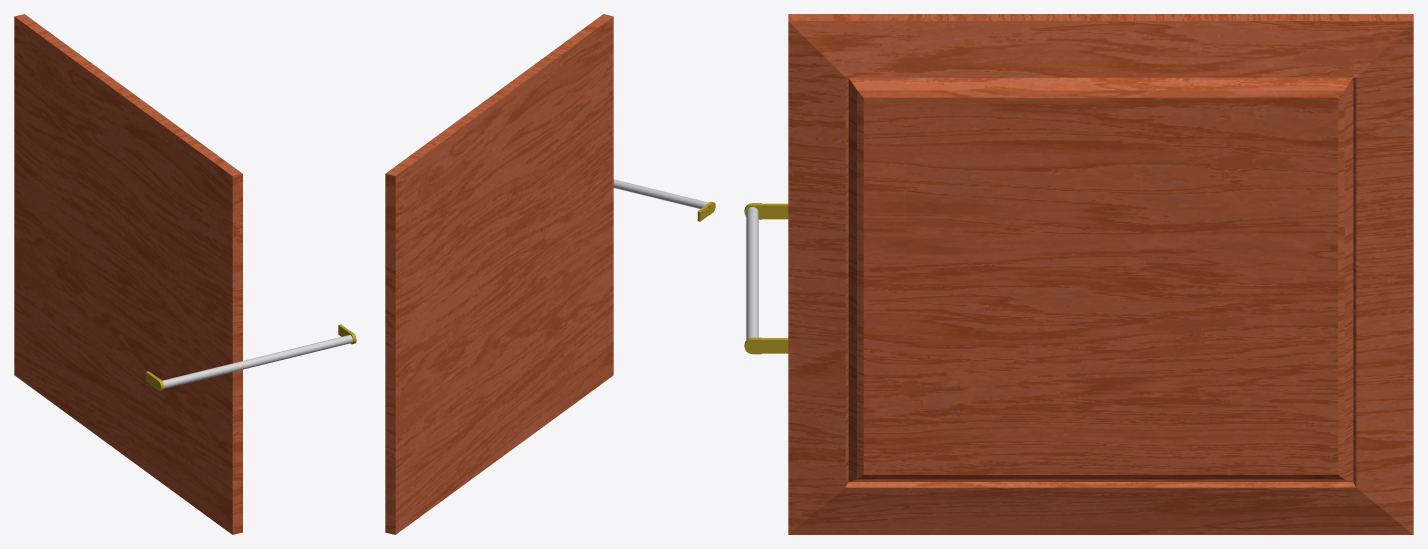
File: Cabinet_fa5b5809.obj
3 views of the same model, side by side, from view 1: azimuth 30°, elevation 25°; view 2: azimuth 150°, elevation 25°; view 3: azimuth 270°, elevation 25° (orthographic). The views are drawn at different scales.
Parts seen in each view (by area): view 1: Mesh_01_5cc13c91, handle_2_305mm_01_434a6c08; view 2: Mesh_01_5cc13c91, handle_2_305mm_01_434a6c08; view 3: Mesh_01_5cc13c91, handle_2_305mm_01_434a6c08.
Boxes of the visible parts, x1,y1,x2,y2 form: Mesh_01_5cc13c91: (14,14,242,534); handle_2_305mm_01_434a6c08: (146,324,356,391); Mesh_01_5cc13c91: (385,14,613,534); handle_2_305mm_01_434a6c08: (613,179,715,221); Mesh_01_5cc13c91: (788,14,1413,534); handle_2_305mm_01_434a6c08: (744,203,788,354).
Bounding box in the file's own units: 0.305 × 0.535 × 0.6313.
